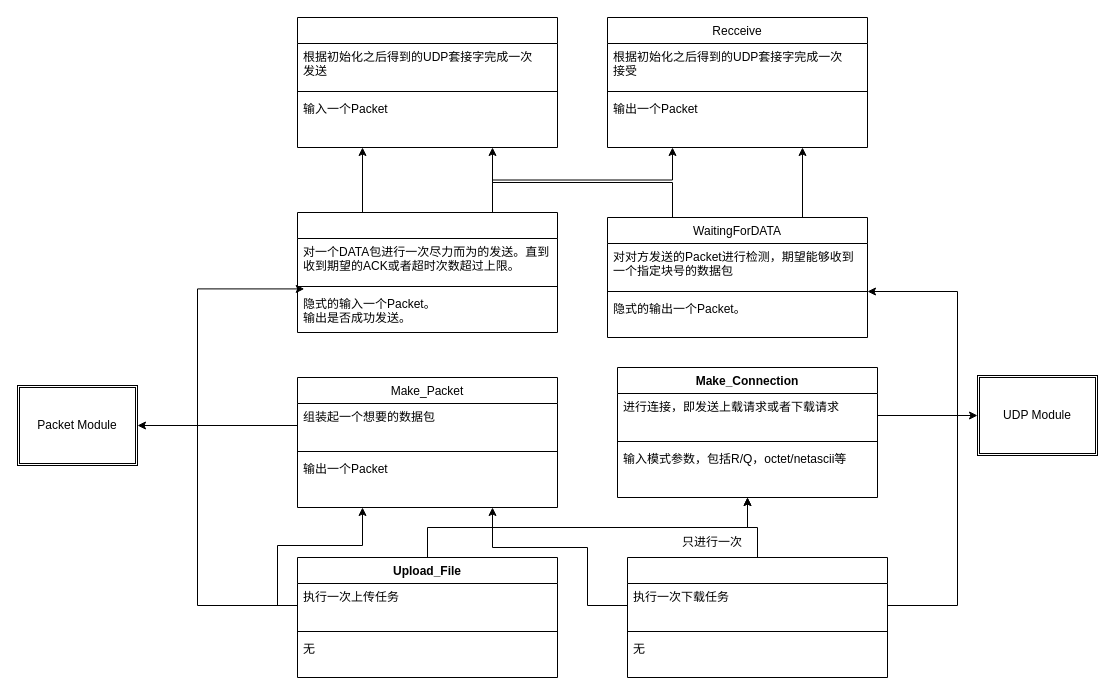
Image size: 1115x698. Some labels were removed from this diagram. The shapes that lost their labels are listed below. From the top down, each one's box as (x1, y1, x2, y2) in pixels, then its label:
(296, 16, 558, 148): Send
(296, 212, 558, 332): BestEffort_Send
(626, 556, 888, 678): Download_File
